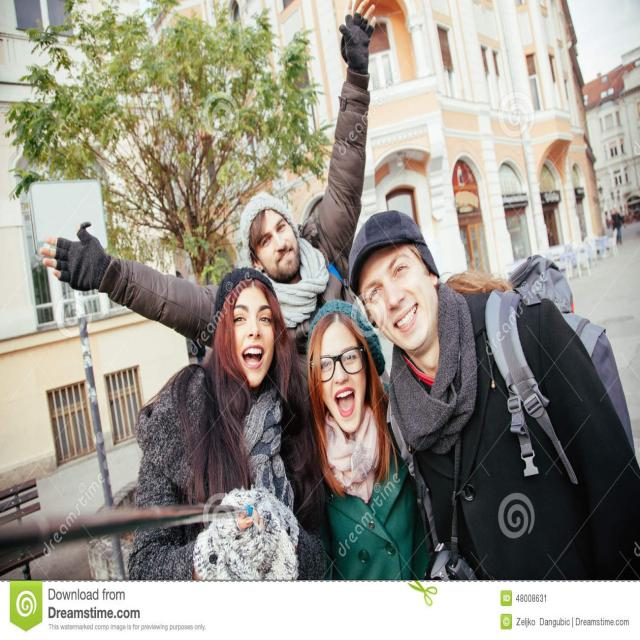body: (34, 0, 382, 398), (346, 208, 640, 582), (411, 244, 640, 581), (123, 264, 336, 581), (303, 297, 439, 581)
